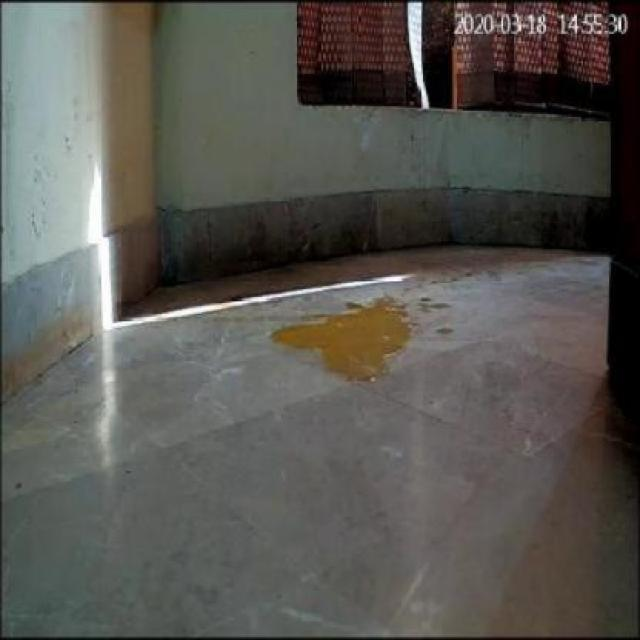spillage: (270, 304, 412, 383), (421, 300, 454, 334)
